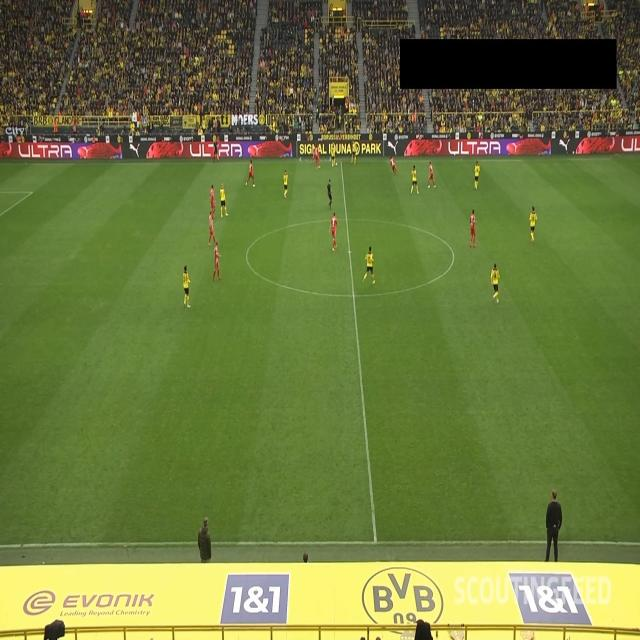ball: (335, 162, 338, 166)
